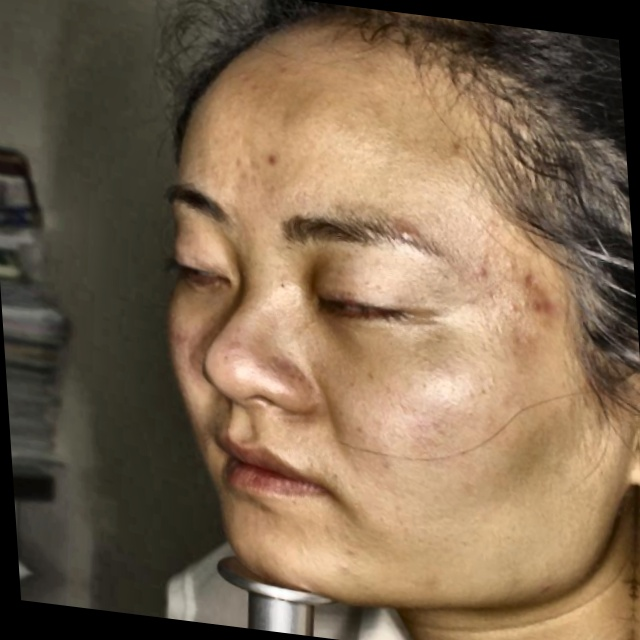comedone: (514, 266, 556, 329), (257, 138, 290, 173)
